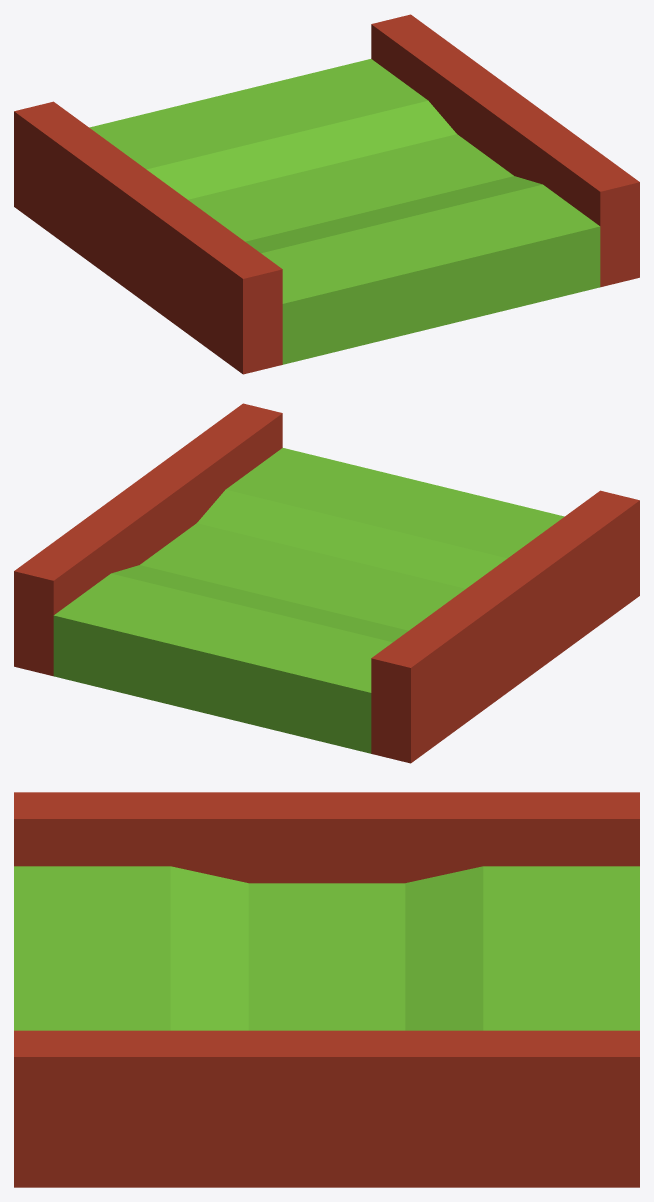
File: Dip.FBX
3 views of the same model, one above another, from view 1: azimuth 30°, elevation 25°; view 2: azimuth 150°, elevation 25°; view 3: azimuth 270°, elevation 25° (orthographic). The views are drawn at different scales.
Visible parts, largest first — view 1: Crest_01, Walls; view 2: Crest_01, Walls; view 3: Walls, Crest_01.
Boxes of the visible parts, box(x1,y1,x2,y2) form: Crest_01: box(89, 59, 600, 364); Walls: box(14, 14, 639, 374); Crest_01: box(53, 448, 564, 753); Walls: box(14, 403, 639, 763); Walls: box(14, 792, 639, 1187); Crest_01: box(14, 866, 639, 1030).
Bounding box in the file's own units: 0.9999 × 0.9999 × 0.23.
